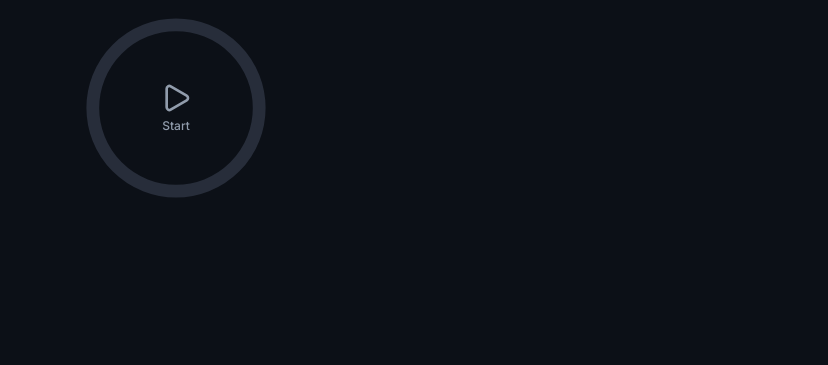
A307 — two-tap reset › first tap only arms, second tap resets
What coordinates should you click on to do the following:
click the button "Start"
I would click on:
 (176, 108)
Its box is 160,82 -> 192,134.
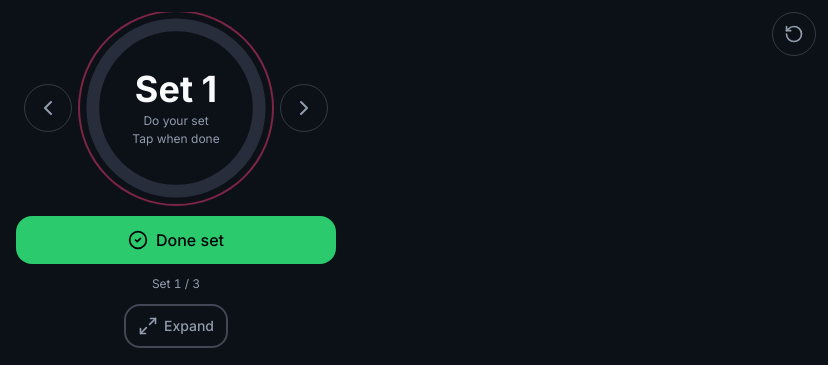
What coordinates should you click on to do the following:
click the button named "reset timer"
I would click on:
 (794, 34)
Its box is 772,12 -> 816,56.
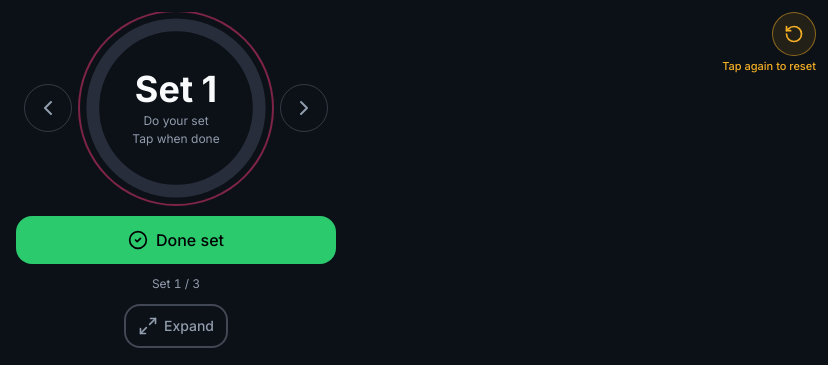
Expected: the text "Tap again to reset" is shown, 722,58 -> 816,74
What coordinates should you click on to do the following:
click the button named "reset timer"
I would click on:
 (794, 34)
Its box is 772,12 -> 816,56.
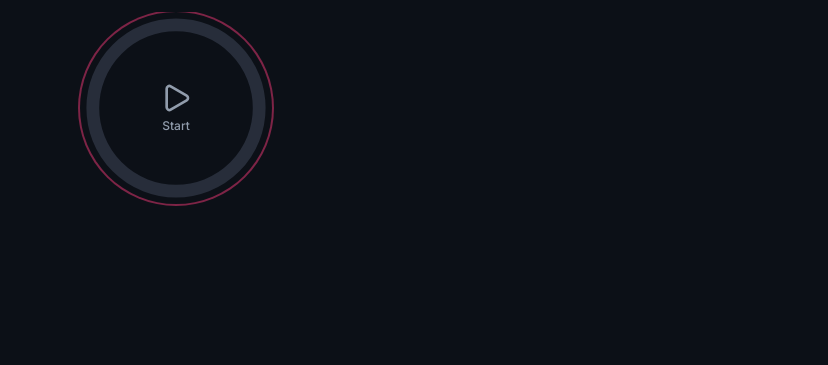
Expected: the text "Set 1 / 3" is not shown
Expected: the button "Start" is shown, 160,82 -> 192,134
